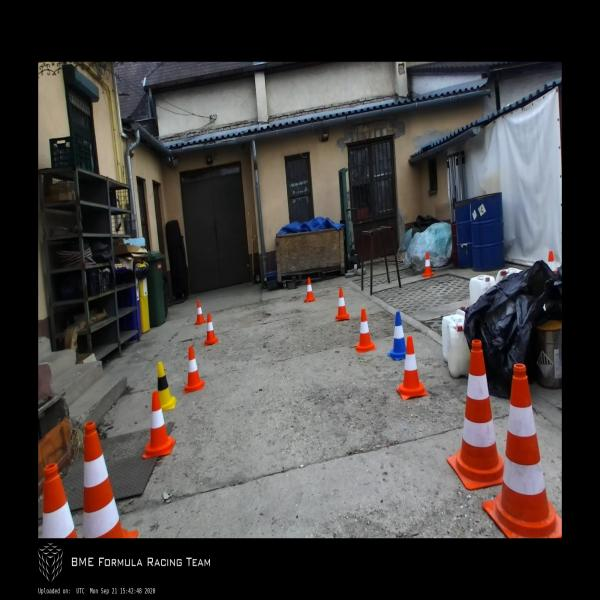blue_cone: (387, 311, 406, 361)
large_orange_cone: (483, 363, 562, 538), (448, 339, 503, 488), (81, 422, 138, 538), (43, 463, 78, 538)
orange_cone: (142, 391, 176, 460), (396, 336, 428, 400), (354, 309, 377, 353), (184, 346, 204, 393), (335, 288, 350, 321), (204, 313, 218, 347), (422, 251, 434, 278), (304, 278, 316, 303), (194, 301, 206, 325), (547, 250, 557, 275)
yellow_cone: (156, 362, 176, 411)
